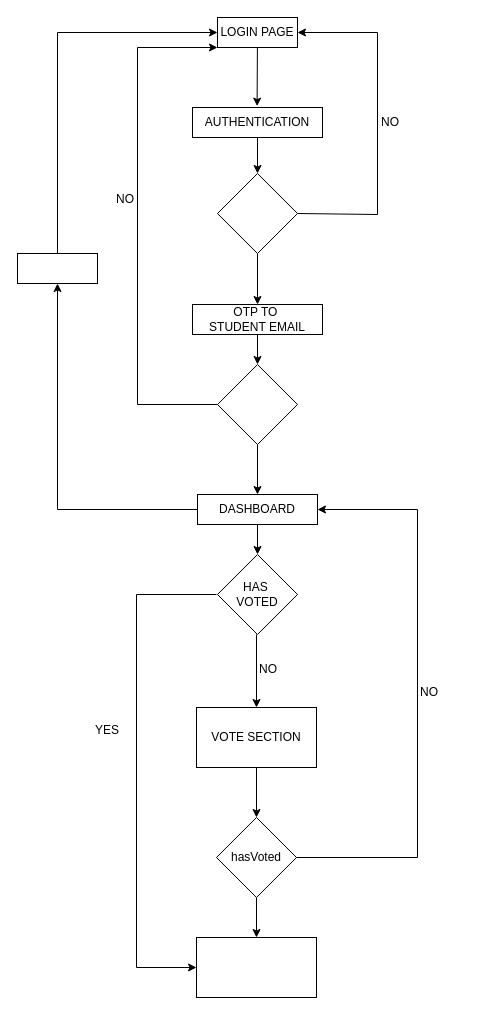
Some shapes in this 477 by 1015 pixel diagram are drawn without their labels. The shapes that lost their labels are listed below. From the top down, each one's centre as x and y in pixels, then its label:
the point at 257,213: isVerified
the point at 57,268: LOGOUT
the point at 257,404: isCorrect
the point at 256,967: HAS VOTED PAGE
